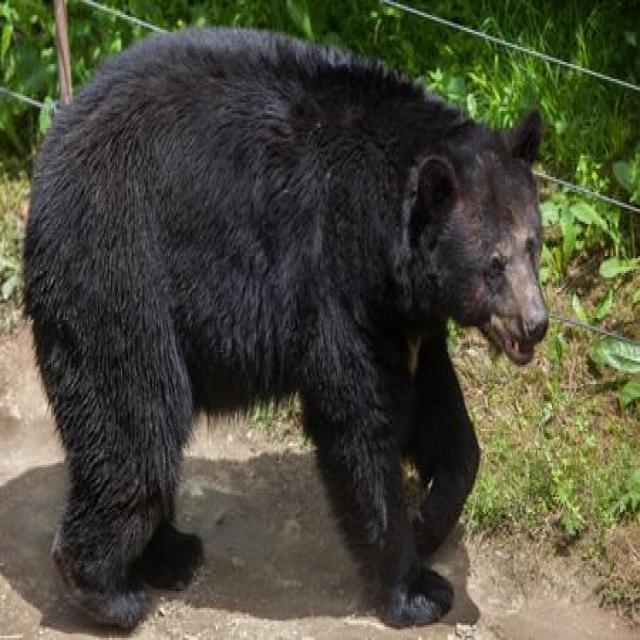Bear: (23, 28, 550, 634)
